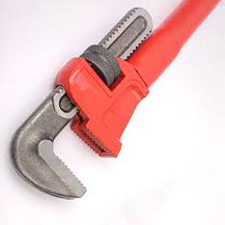wrench: (9, 1, 219, 198)
